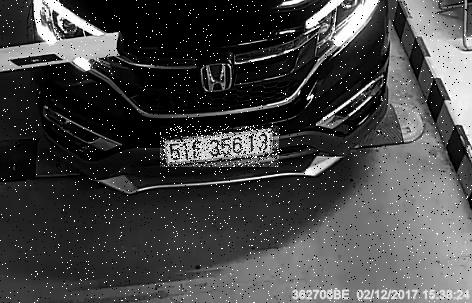License-plate: (162, 127, 282, 168)
